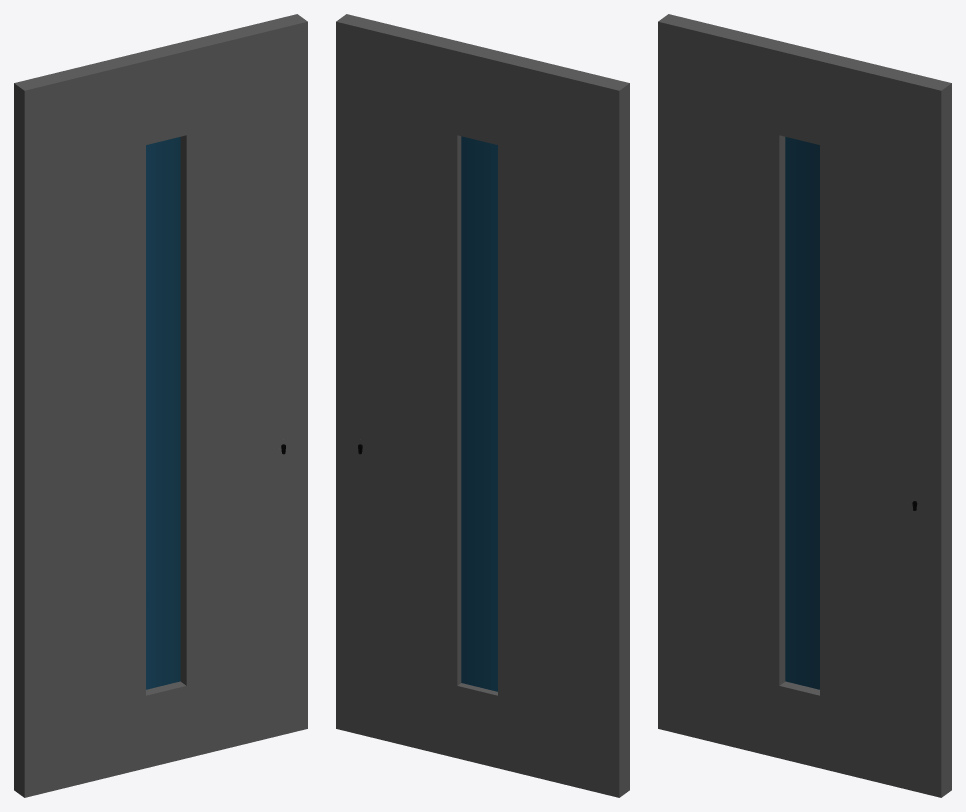
Rendered from Door05.fbx.
3 renders of one model, left to right at view 1: azimuth 30°, elevation 25°; view 2: azimuth 150°, elevation 25°; view 3: azimuth 330°, elevation 25°, orthographic.
Visible parts, largest first — view 1: Door05; view 2: Door05; view 3: Door05.
Boxes of the visible parts, bbox=[...] form: Door05: bbox=[14, 14, 307, 797]; Door05: bbox=[336, 14, 629, 797]; Door05: bbox=[658, 14, 951, 797].
Size of the model in its own units: 78 by 186 by 6.71.
